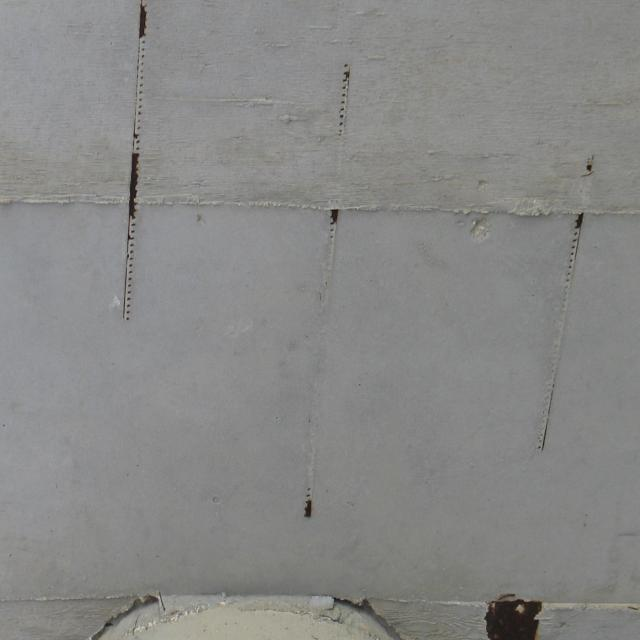corrosion: (526, 152, 613, 459), (299, 62, 356, 525), (112, 0, 162, 316), (475, 586, 551, 640)
